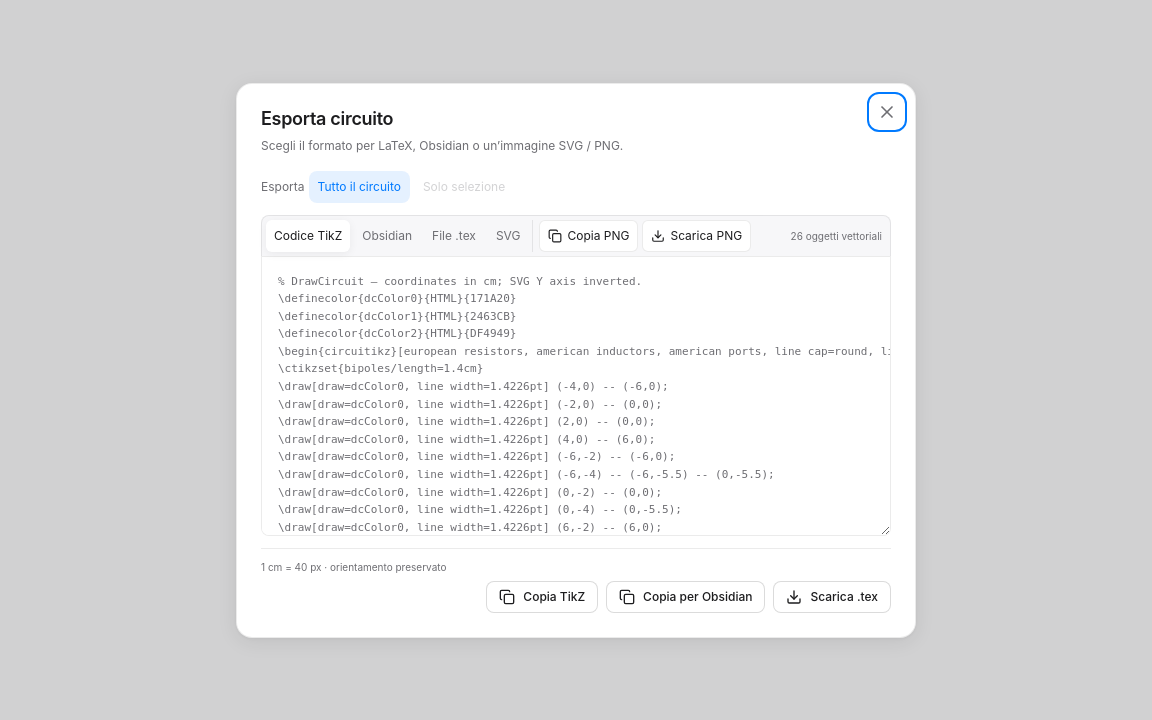
Test: Obsidian copy in the existing export dialog › selects the correct snippet code for manual copy when clipboard permission fails
What coordinates should you click on to do the following:
click the button "File .tex"
I would click on:
 (454, 236)
Its box is [424,220,484,252].
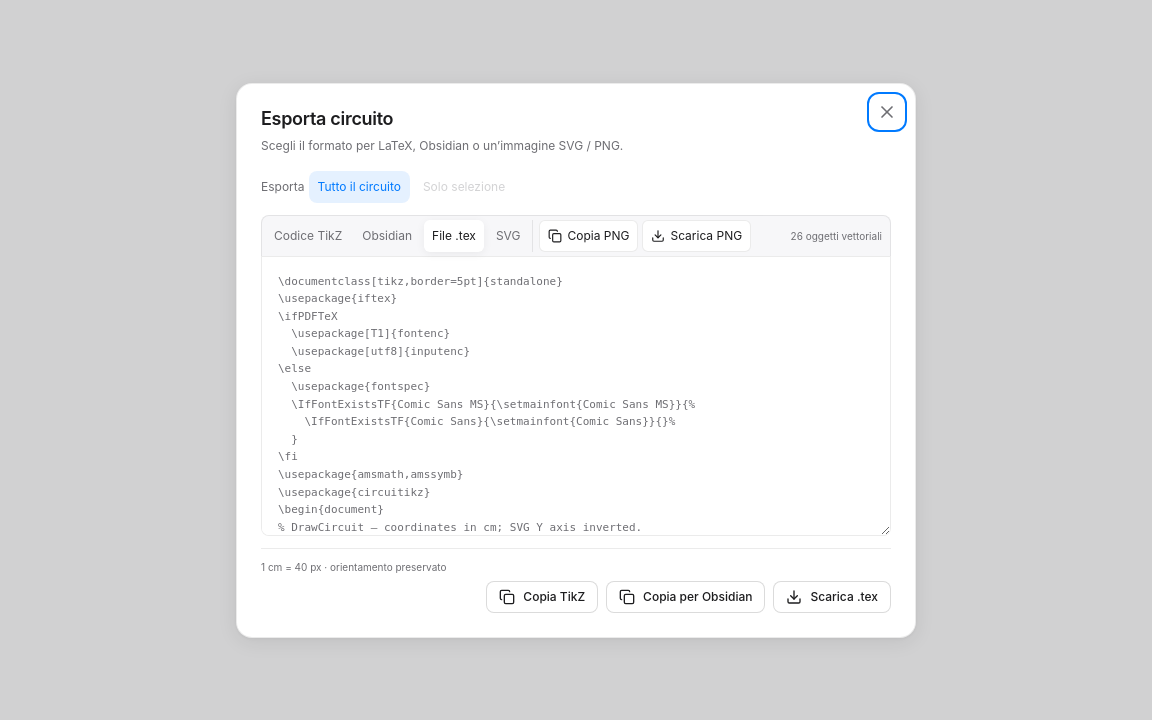
What coordinates should you click on to do the following:
click the button "Copia TikZ"
I would click on:
 (542, 596)
Its box is [486,580,598,612].
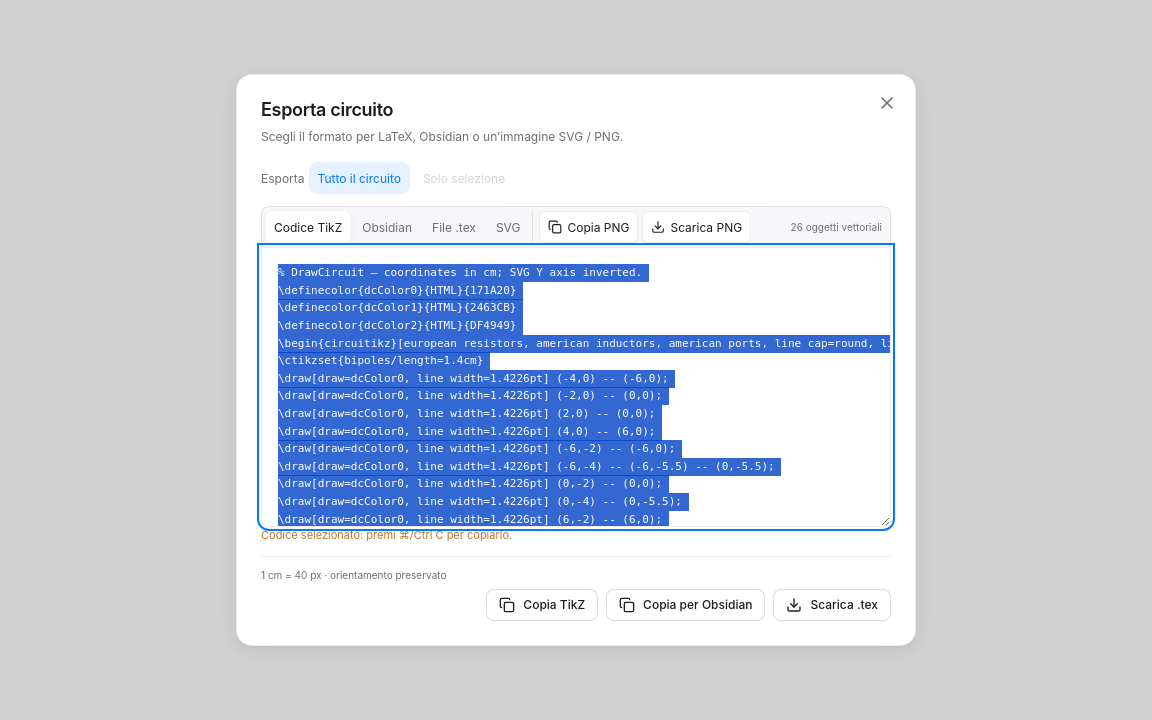
Expected: the text "Codice selezionato: premi ⌘/Ctrl C per copiarlo." is shown, [261,528,512,542]
